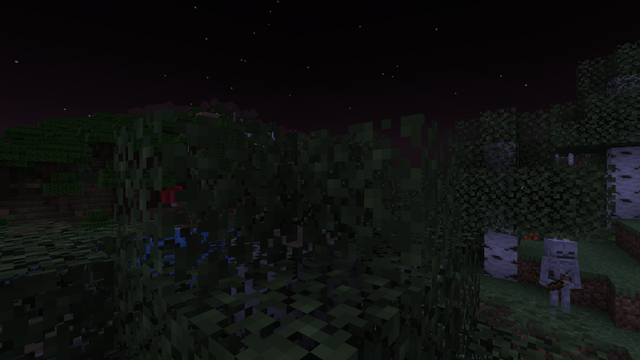squelettes: (544, 236, 575, 302)
